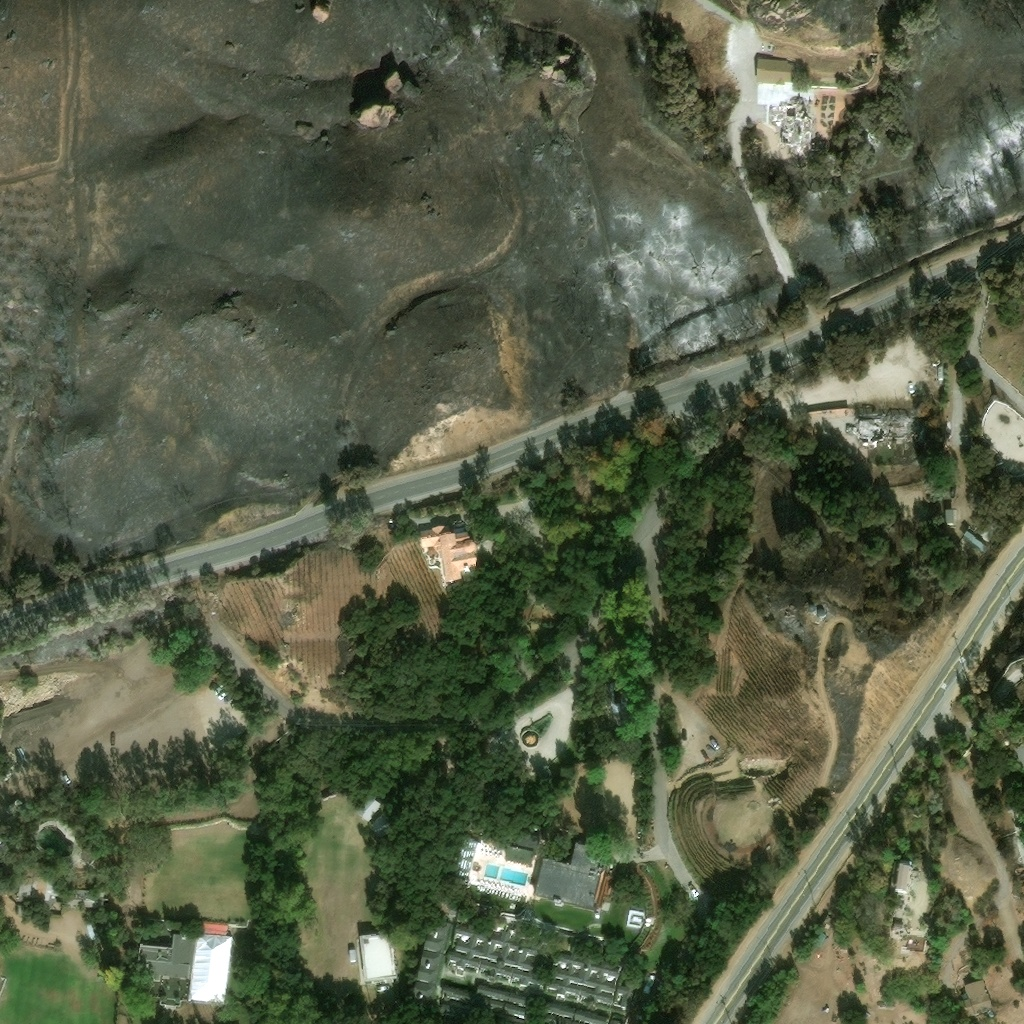0 no-damage: (444, 925, 620, 1011), (134, 932, 231, 1007), (469, 980, 611, 1023), (533, 841, 605, 911), (417, 524, 477, 583), (979, 399, 1023, 475), (357, 931, 397, 982), (954, 979, 994, 1018), (755, 55, 803, 84), (503, 829, 540, 866), (57, 887, 104, 912), (422, 919, 449, 953), (415, 951, 442, 983), (368, 809, 397, 837), (438, 981, 473, 1004), (354, 794, 382, 821), (408, 981, 435, 1006), (993, 811, 1016, 836), (894, 862, 913, 892), (22, 924, 45, 946), (963, 529, 986, 550), (435, 1001, 463, 1018), (805, 598, 827, 619), (15, 877, 35, 898), (625, 908, 644, 927), (318, 784, 338, 799), (944, 508, 953, 522), (0, 976, 6, 997), (892, 920, 903, 928), (911, 939, 918, 946)
3 destroyed: (853, 407, 940, 441), (768, 95, 811, 147)
